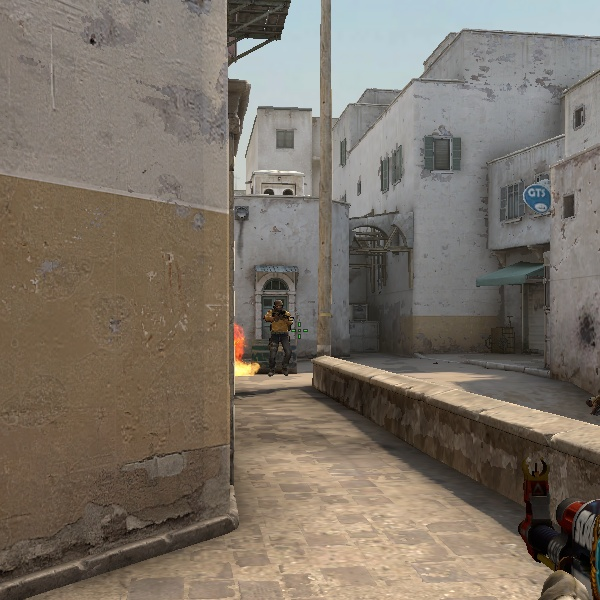t_body: (254, 296, 303, 378)
